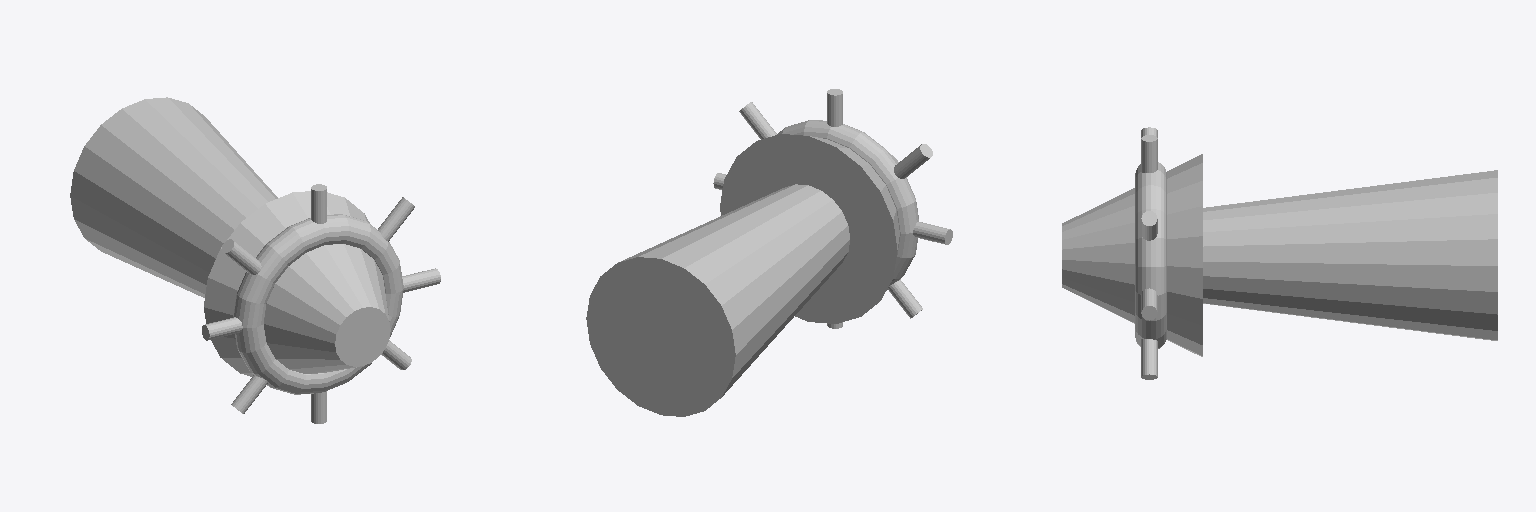
File: Tower-SPEED.obj
3 renders of one model, left to right at view 1: azimuth 30°, elevation 25°; view 2: azimuth 150°, elevation 25°; view 3: azimuth 270°, elevation 25°, orthographic.
Parts seen in each view (by area): view 1: initialShadingGroup polySurface13, polySurface13; view 2: polySurface13, initialShadingGroup polySurface13; view 3: polySurface13, initialShadingGroup polySurface13.
Part boxes in pixels (x1,y1,x2,y2): initialShadingGroup polySurface13: (202,184,440,423); polySurface13: (70,97,277,297); polySurface13: (586,184,849,416); initialShadingGroup polySurface13: (713,89,952,328); polySurface13: (1203,170,1497,340); initialShadingGroup polySurface13: (1062,127,1202,379).
Size of the model in its own units: 1.42 by 1.37 by 2.32.